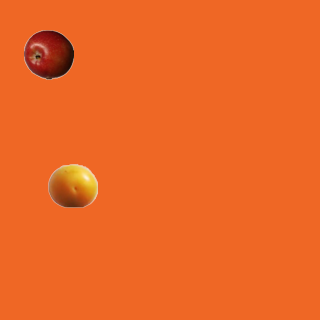Apple Braeburn: (23, 29, 73, 79)
Cherry Wax Yellow: (47, 160, 97, 210)
